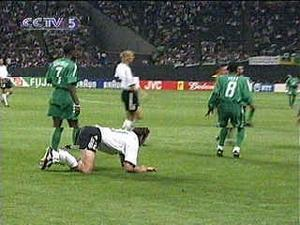Fall-Detected: (37, 115, 161, 177)
